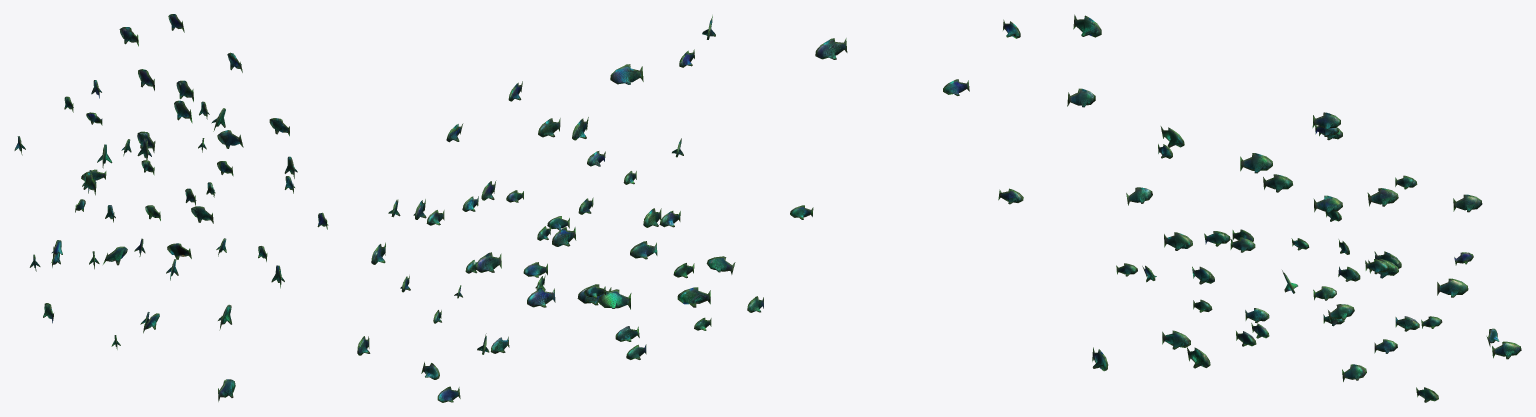
File: fish_particle.glb
3 renders of one model, left to right at view 1: azimuth 30°, elevation 25°; view 2: azimuth 150°, elevation 25°; view 3: azimuth 270°, elevation 25°, orthographic.
Bounding box in the file's own units: 1.78 × 1.22 × 2.
Materials: 1 (1 with a texture image).
